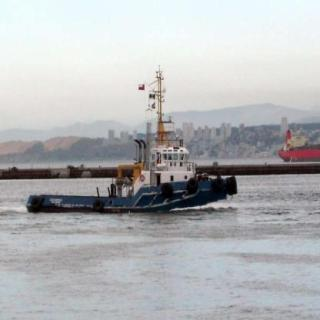Tug Boat: (28, 59, 241, 213)
